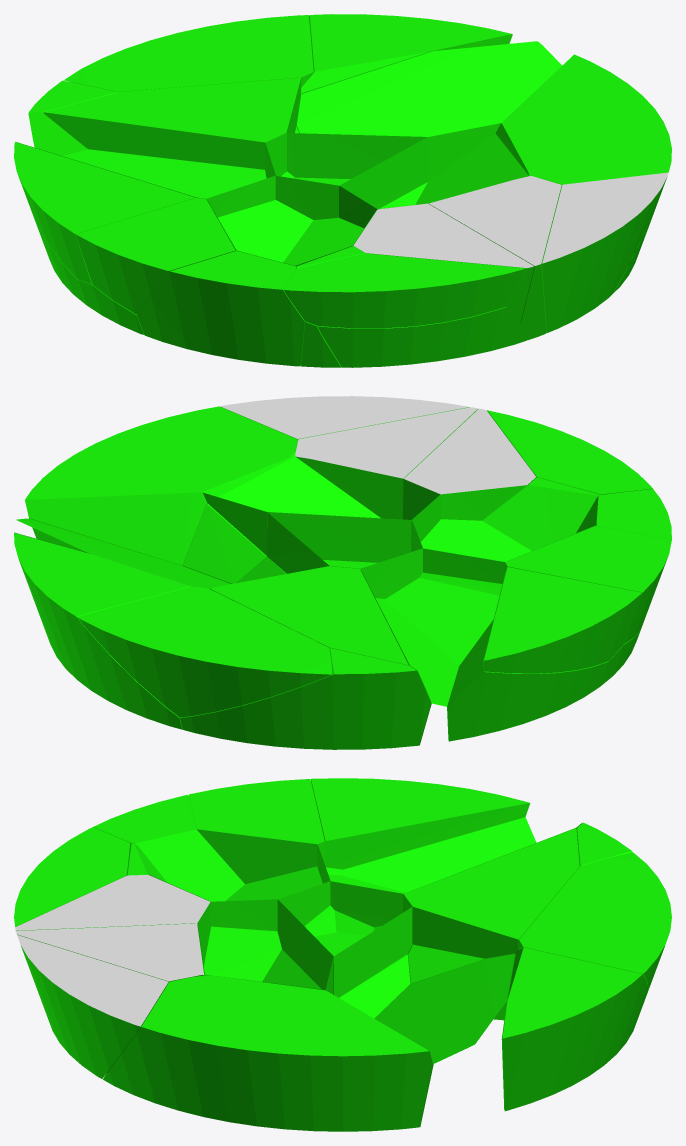
Rendered from Board_Green_F.dae.
3 renders of one model, top to bottom at view 1: azimuth 30°, elevation 25°; view 2: azimuth 150°, elevation 25°; view 3: azimuth 270°, elevation 25°, orthographic.
Visible parts, largest first — view 1: Board_Green_cell.028, Board_Green_cell.027, Board_Green_cell.013, Board_Green_cell.023, Board_Green_cell.020, Board_Green_cell.002, Board_Green_cell.007, Board_Green_cell.006, Board_Green_cell.014, Board_Green_cell.018, Board_Green_cell.025, Board_Green_cell.008 (+9 smaller); view 2: Board_Green_cell.027, Board_Green_cell.020, Board_Green_cell.022, Board_Green_cell.002, Board_Green_cell.015, Board_Green_cell.025, Board_Green_cell.008, Board_Green_cell.006, Board_Green_cell.014, Board_Green_cell.018, Board_Green_cell.011, Board_Green_cell.009 (+9 smaller); view 3: Board_Green_cell.027, Board_Green_cell.015, Board_Green_cell.014, Board_Green_cell.020, Board_Green_cell.002, Board_Green_cell.007, Board_Green_cell.006, Board_Green_cell.008, Board_Green_cell.011, Board_Green_cell.028, Board_Green_cell.025, Board_Green_cell.018 (+7 smaller).
Part boxes in pixels (bbox=[...]): Board_Green_cell.028: bbox=[296, 34, 561, 136]; Board_Green_cell.027: bbox=[501, 54, 671, 293]; Board_Green_cell.013: bbox=[137, 251, 304, 366]; Board_Green_cell.023: bbox=[283, 253, 526, 328]; Board_Green_cell.020: bbox=[64, 15, 313, 92]; Board_Green_cell.002: bbox=[16, 112, 275, 198]; Board_Green_cell.007: bbox=[542, 172, 668, 332]; Board_Green_cell.006: bbox=[206, 176, 376, 266]; Board_Green_cell.014: bbox=[44, 77, 300, 143]; Board_Green_cell.018: bbox=[75, 197, 235, 314]; Board_Green_cell.025: bbox=[14, 142, 195, 284]; Board_Green_cell.008: bbox=[339, 123, 528, 209]; Board_Green_cell.027: bbox=[25, 406, 297, 565]; Board_Green_cell.020: bbox=[77, 586, 332, 717]; Board_Green_cell.022: bbox=[180, 648, 431, 749]; Board_Green_cell.002: bbox=[360, 548, 506, 706]; Board_Green_cell.015: bbox=[14, 533, 190, 729]; Board_Green_cell.025: bbox=[484, 567, 642, 673]; Board_Green_cell.008: bbox=[202, 456, 440, 555]; Board_Green_cell.006: bbox=[412, 485, 597, 562]; Board_Green_cell.014: bbox=[209, 566, 408, 665]; Board_Green_cell.018: bbox=[505, 526, 671, 643]; Board_Green_cell.011: bbox=[267, 512, 422, 573]; Board_Green_cell.009: bbox=[447, 661, 607, 741]; Board_Green_cell.027: bbox=[103, 975, 432, 1131]; Board_Green_cell.015: bbox=[502, 947, 647, 1111]; Board_Green_cell.014: bbox=[403, 828, 579, 958]; Board_Green_cell.020: bbox=[519, 852, 671, 990]; Board_Green_cell.002: bbox=[317, 803, 581, 894]; Board_Green_cell.007: bbox=[17, 935, 168, 1078]; Board_Green_cell.006: bbox=[136, 829, 329, 901]; Board_Green_cell.008: bbox=[197, 899, 333, 994]; Board_Green_cell.011: bbox=[278, 881, 412, 997]; Board_Green_cell.028: bbox=[375, 954, 515, 1126]; Board_Green_cell.025: bbox=[311, 778, 529, 841]; Board_Green_cell.018: bbox=[188, 779, 324, 844].
Bounding box in the file's own units: 2 × 2 × 0.3.
